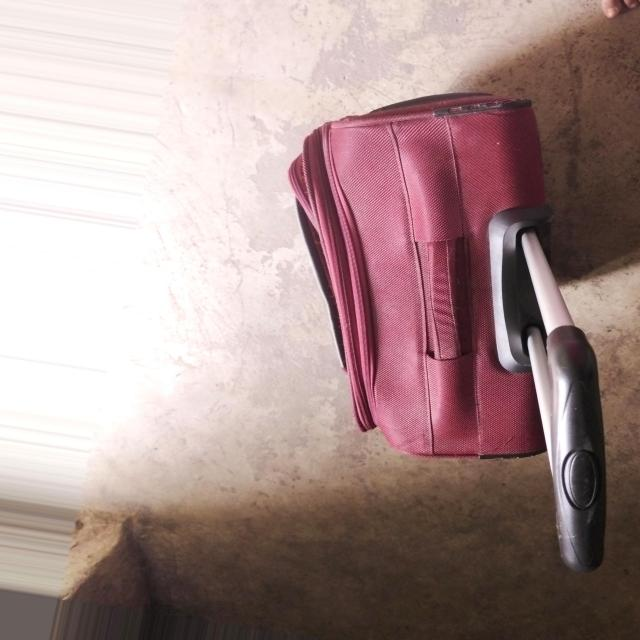Bag: (269, 35, 634, 569)
Handle: (485, 196, 636, 569)
